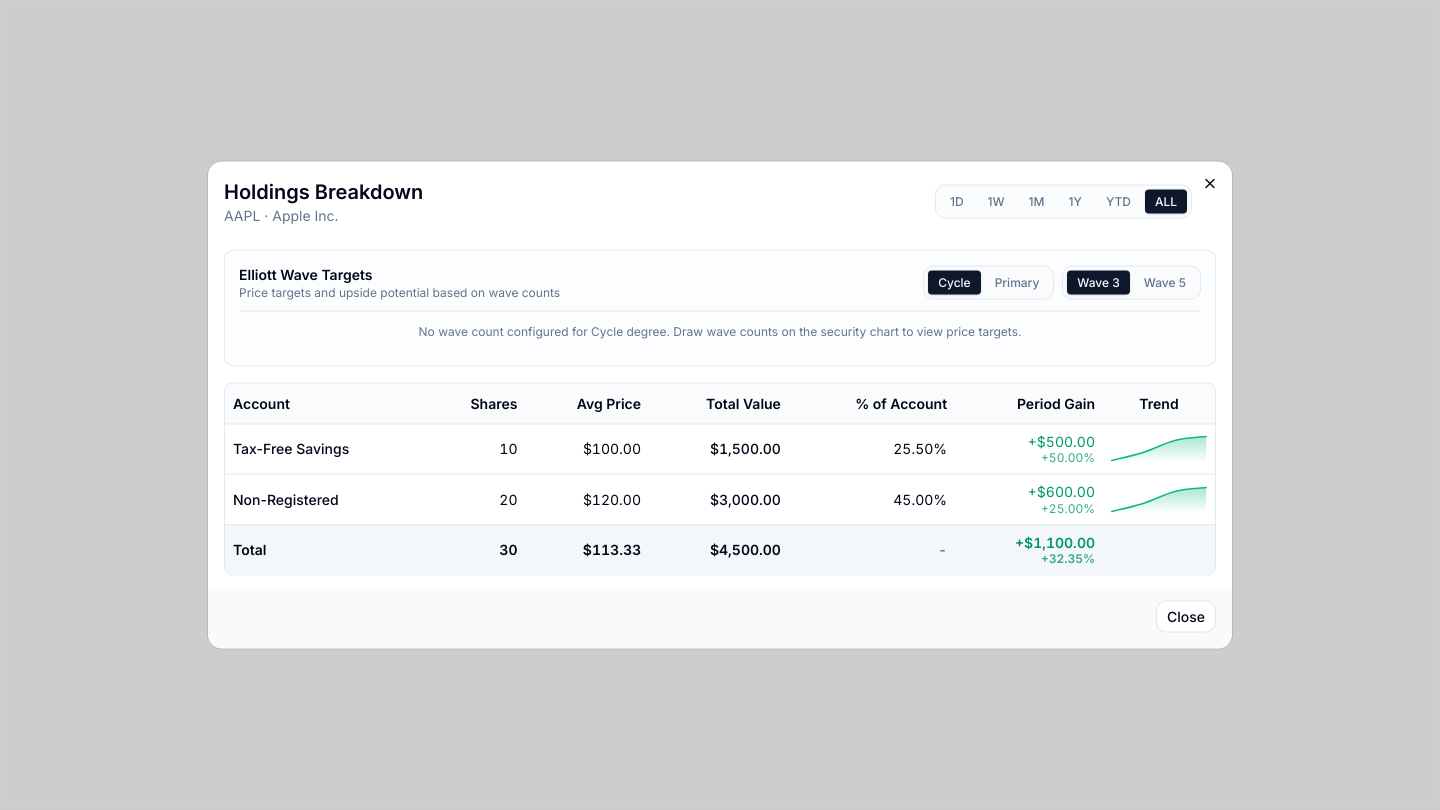
Test: HoldingsModal Component › Elliott Wave Targets panel › renders empty state when no wave count is configured for security or selected degree
The image size is (1440, 810).
Expected: the text "No wave count configured for Cycle degree" is shown, [418,324,1021,338]
# Switch to Primary degree - still shows empty state for Primary
What coordinates should you click on to do the following:
click the button "Primary"
I would click on:
 (1017, 282)
Its box is [985,270,1049,294].
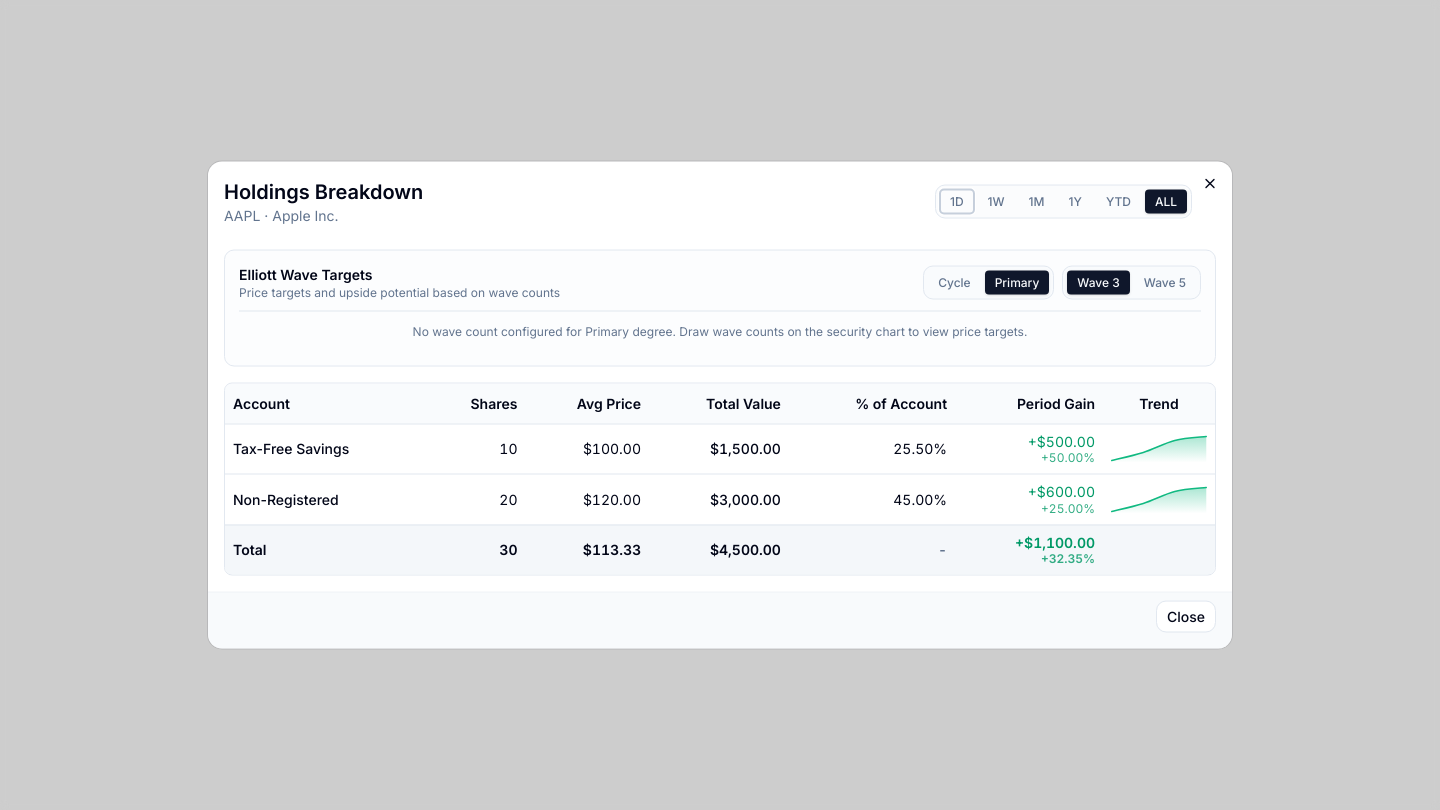
Expected: the text "No wave count configured for Primary degree" is shown, [413,324,1027,338]
